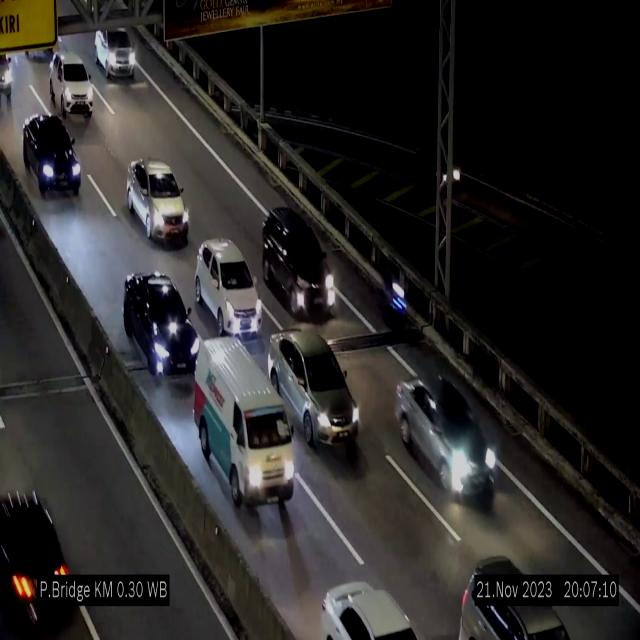Car: (395, 375, 499, 501), (447, 546, 576, 640), (0, 496, 81, 640), (267, 326, 359, 447), (123, 272, 199, 400), (261, 202, 335, 327), (302, 565, 424, 640), (195, 238, 262, 336), (21, 110, 81, 204), (126, 160, 190, 242), (409, 126, 462, 201), (50, 51, 96, 116), (90, 19, 136, 81), (0, 46, 22, 100)
Motorcycle: (379, 256, 406, 333)
Truck: (193, 337, 295, 522)
